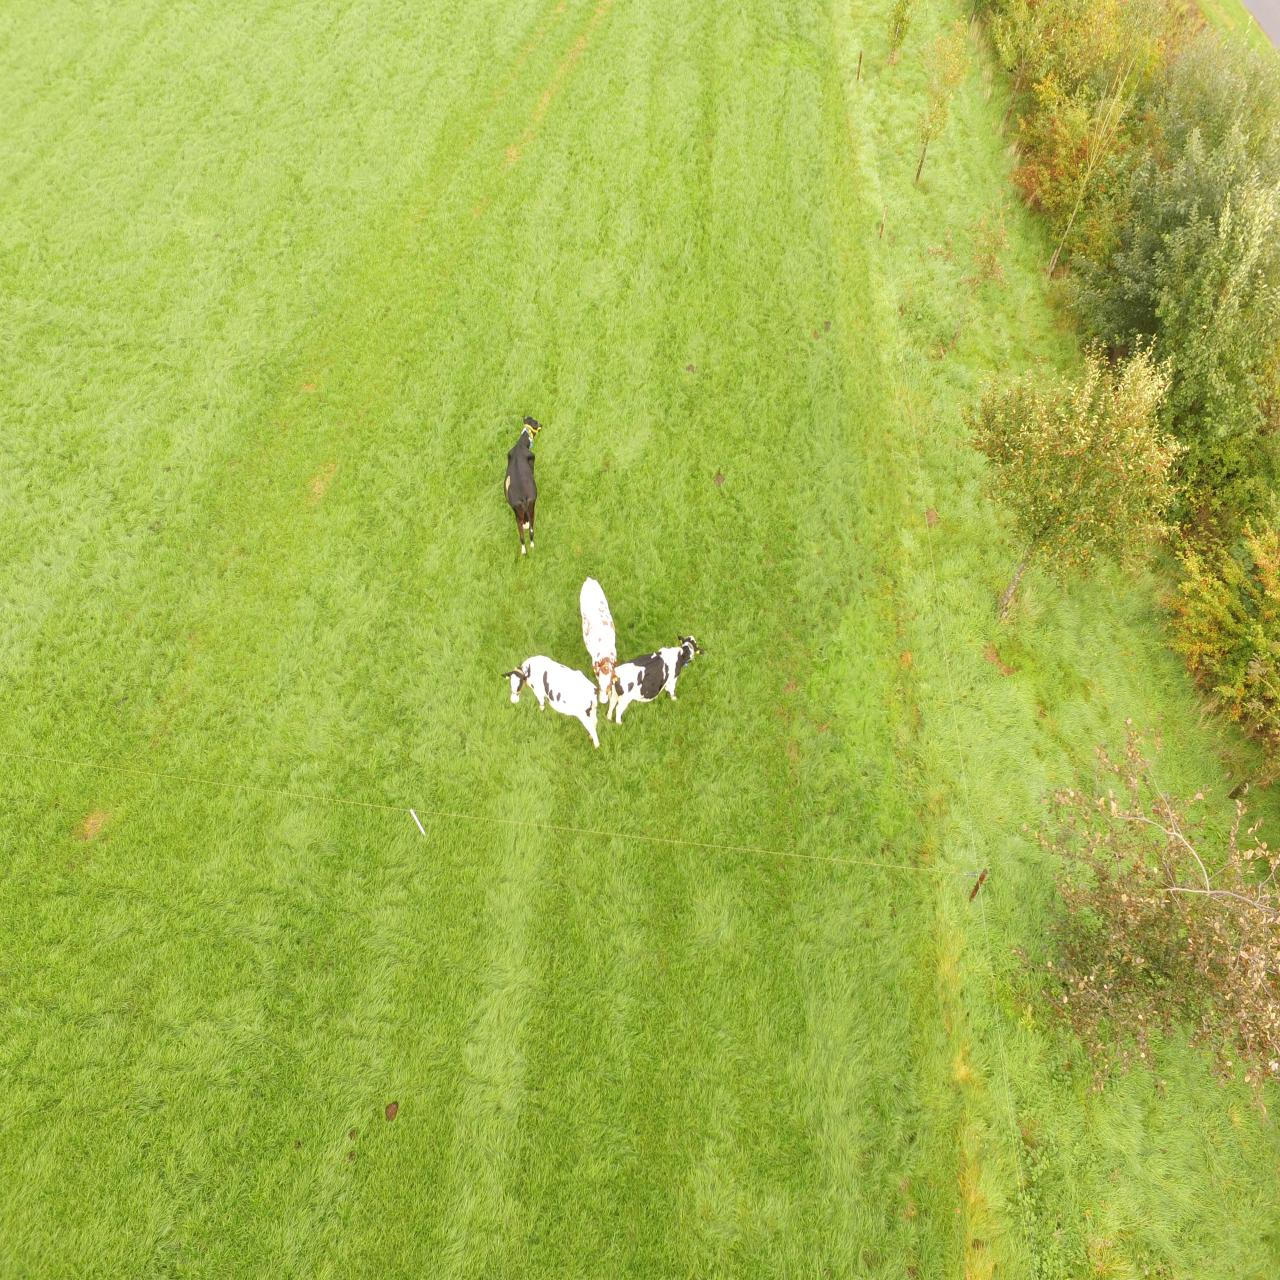cow: (605, 631, 706, 728), (509, 655, 601, 747), (504, 414, 539, 554), (579, 573, 615, 702)
